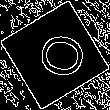O_W: (25, 28, 85, 82)
